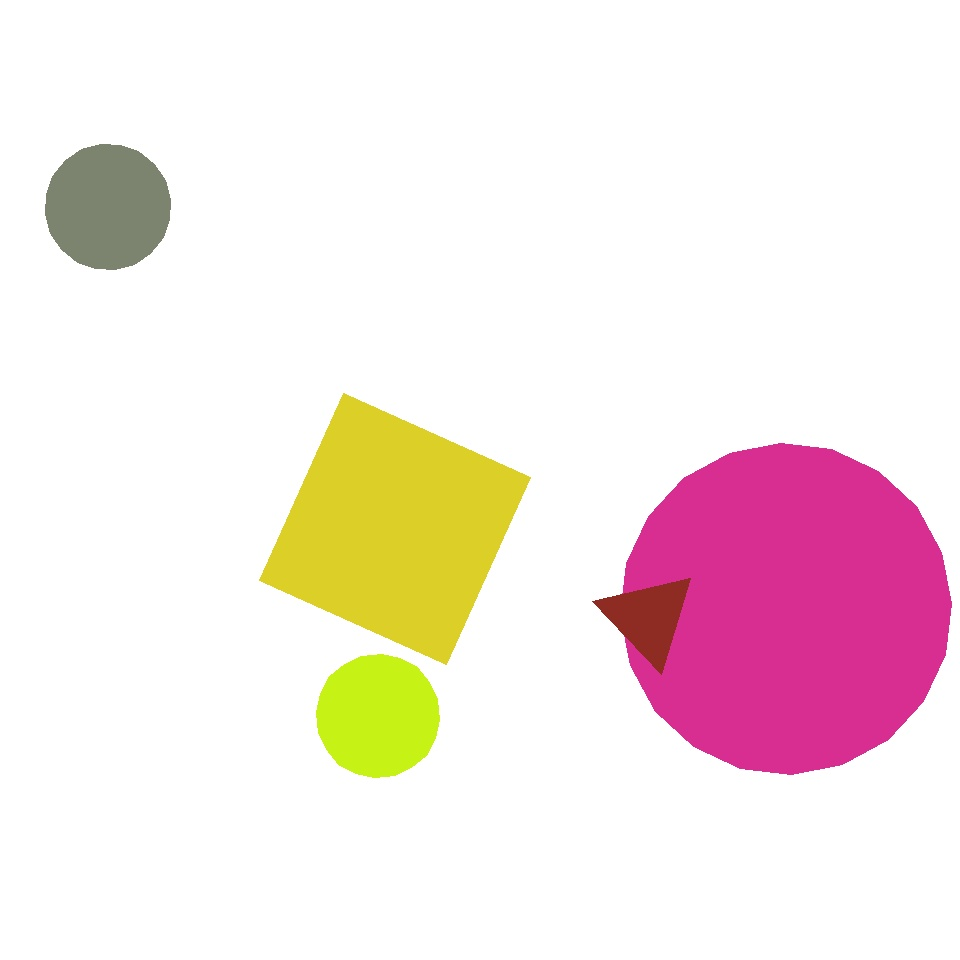circle: (606, 563, 718, 683), (599, 570, 697, 666)
square: (184, 492, 486, 792), (201, 411, 500, 710), (259, 394, 530, 664), (366, 400, 576, 610)
triangle: (620, 444, 952, 774), (652, 488, 950, 786), (368, 214, 538, 384), (46, 144, 170, 270), (316, 654, 439, 778)
